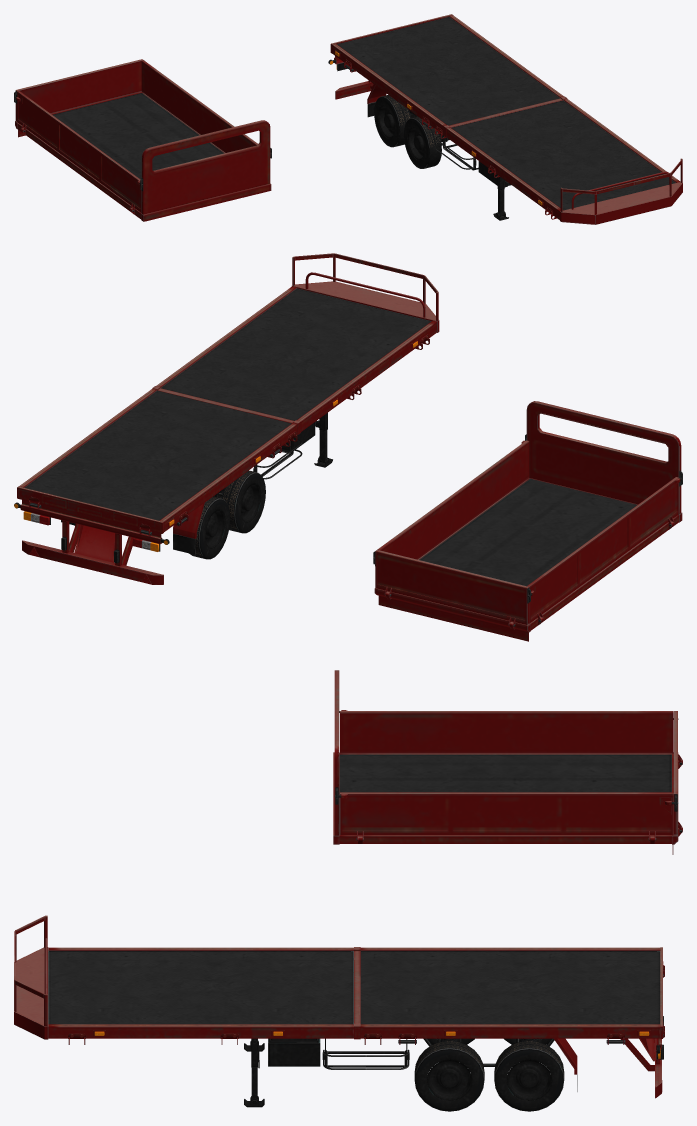
File: Trailer_M.FBX
3 views of the same model, one above another, from view 1: azimuth 30°, elevation 25°; view 2: azimuth 150°, elevation 25°; view 3: azimuth 270°, elevation 25° (orthographic). The views are drawn at different scales.
Visible parts, largest first — view 1: Trailer_1, Trailer_2, Trailer_2R, Trailer_2B, Trailer_2L, RL_Trailer (×2); view 2: Trailer_1, Trailer_2, Trailer_2B, Trailer_2R, Trailer_2L, RL_Trailer (×2); view 3: Trailer_1, Trailer_2, Trailer_2L, Trailer_2R, BL_Trailer, FL_Trailer.
Boxes of the visible parts, x1=… form: Trailer_1: x1=328, y1=14, x2=682, y2=224; Trailer_2: x1=15, y1=91, x2=271, y2=221; Trailer_2R: x1=15, y1=91, x2=142, y2=212; Trailer_2B: x1=14, y1=59, x2=143, y2=121; Trailer_2L: x1=141, y1=60, x2=271, y2=154; RL_Trailer (×2): x1=374, y1=95, x2=441, y2=168; Trailer_1: x1=14, y1=253, x2=439, y2=584; Trailer_2: x1=374, y1=401, x2=682, y2=641; Trailer_2B: x1=373, y1=550, x2=530, y2=626; Trailer_2R: x1=527, y1=477, x2=681, y2=623; Trailer_2L: x1=374, y1=440, x2=529, y2=559; RL_Trailer (×2): x1=189, y1=470, x2=265, y2=559; Trailer_1: x1=14, y1=915, x2=664, y2=1098; Trailer_2: x1=333, y1=670, x2=682, y2=854; Trailer_2L: x1=334, y1=792, x2=677, y2=841; Trailer_2R: x1=339, y1=710, x2=678, y2=753; BL_Trailer: x1=494, y1=1040, x2=564, y2=1111; FL_Trailer: x1=414, y1=1040, x2=484, y2=1111.
Bounding box in the file's own units: 251 × 68.42 × 247.
Materials: 1 (1 with a texture image).
